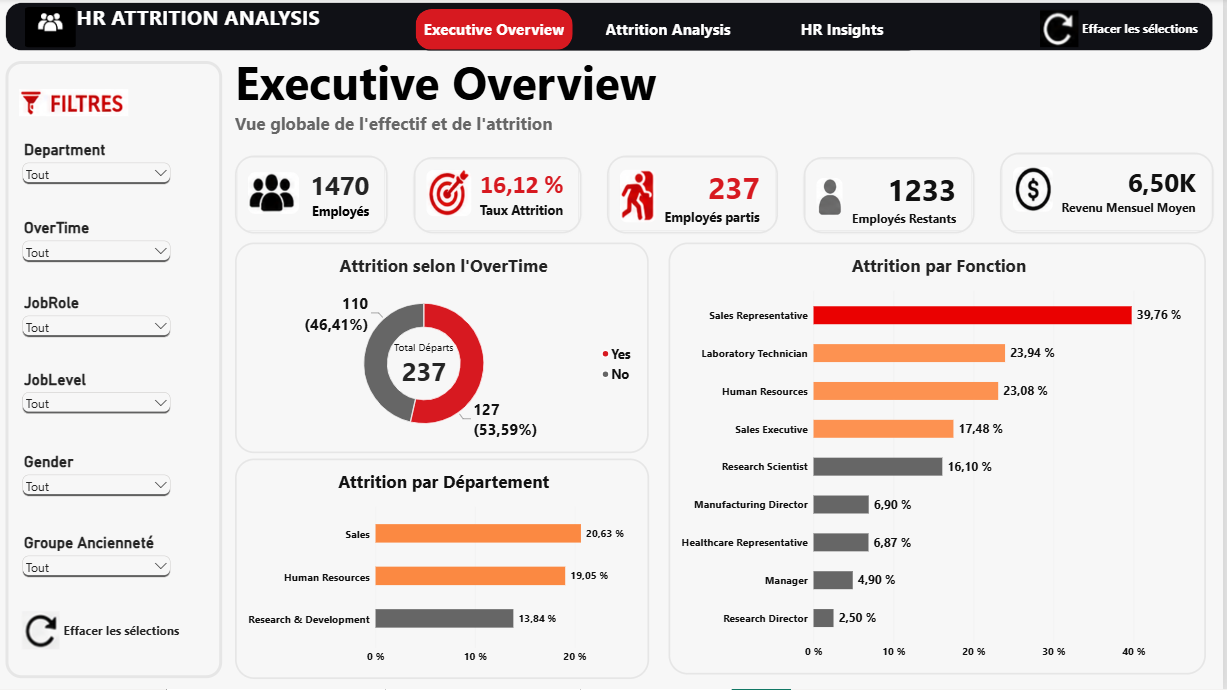

What the dashboard file says about the page in this screenshot:
{"tool":"powerbi","page":{"name":"Executive Overview","canvas":[1920,1080],"ordinal":0},"visuals":[{"type":"cardVisual","fields":{"Data":["_Mesures.Nombre Employés"]},"box":[374.8,245.9,238.7,121.7],"z":0},{"type":"donutChart","title":"Attrition selon l''OverTime","fields":{"Category":["Fact_Employee.OverTime"],"Y":["_Mesures.Employés Ayant Quitté"]},"box":[374.8,381.9,646.9,329.4],"z":1000},{"type":"textbox","box":[42.2,272,407.9,44.5],"z":2000},{"type":"textbox","box":[16.4,7,1887.3,75],"z":3000},{"type":"image","box":[42.2,14.1,89.1,63.3],"z":4000},{"type":"pageNavigator","box":[656.5,16.4,792.4,66],"z":5000},{"type":"actionButton","box":[1629.4,14.1,262.6,68],"z":6000},{"type":"textbox","box":[374.4,82.9,1544.9,139.8],"z":7000},{"type":"textbox","box":[16.6,99.5,338.8,964.4],"z":8000},{"type":"image","box":[37.9,118.5,170.6,87.7],"z":9000},{"type":"slicer","fields":{"Values":["Dim_Department.Department"]},"box":[37.9,222.7,241.7,94.8],"z":10000},{"type":"slicer","fields":{"Values":["Fact_Employee.OverTime"]},"box":[37.9,343.6,241.7,94.8],"z":11000},{"type":"slicer","fields":{"Values":["Dim_JobRole.JobRole"]},"box":[37.9,462,241.7,94.8],"z":12000},{"type":"slicer","fields":{"Values":["Fact_Employee.JobLevel"]},"box":[37.9,580.5,241.7,94.8],"z":13000},{"type":"slicer","fields":{"Values":["Fact_Employee.Gender"]},"box":[37.9,710.8,241.7,94.8],"z":14000},{"type":"slicer","fields":{"Values":["Fact_Employee.Groupe Ancienneté"]},"box":[37.9,836.4,241.7,94.8],"z":15000},{"type":"actionButton","box":[37.9,954.9,262.6,68],"z":16000},{"type":"cardVisual","fields":{"Data":["_Mesures.Taux Attrition"]},"box":[654.1,248.3,262.6,119.4],"z":17000},{"type":"cardVisual","fields":{"Data":["_Mesures.Employés Ayant Quitté"]},"box":[957.2,245.9,267.4,121.7],"z":18000},{"type":"cardVisual","fields":{"Data":["_Mesures.Employés Restants"]},"box":[1262.8,248.3,267.4,119.4],"z":19000},{"type":"cardVisual","fields":{"Data":["_Mesures.Revenu Mensuel Moyen"]},"box":[1570.7,241.1,334.2,126.5],"z":20000},{"type":"clusteredBarChart","title":"Attrition par Fonction","fields":{"Category":["Dim_JobRole.JobRole"],"Y":["_Mesures.Taux Attrition"]},"box":[1052.7,381.9,840.3,675.5],"z":21000},{"type":"clusteredBarChart","title":"Attrition par Département","fields":{"Category":["Dim_Department.Department"],"Y":["_Mesures.Taux Attrition"]},"box":[375.1,719.8,647.1,344.6],"z":22001}]}

Visuals, with their boxes in screenshot pixels (x1, y1, x2, y2), scaled from the page's 1920x1080 canvas onto the 1227x690 screenshot:
cardVisual - _Mesures.Nombre Employés: [240, 157, 392, 235]
"Attrition selon l''OverTime" donutChart: [240, 244, 653, 454]
textbox: [27, 174, 288, 202]
textbox: [10, 4, 1217, 52]
image: [27, 9, 84, 49]
pageNavigator: [420, 10, 926, 53]
actionButton: [1041, 9, 1209, 52]
textbox: [239, 53, 1226, 142]
textbox: [11, 64, 227, 680]
image: [24, 76, 133, 132]
slicer - Dim_Department.Department: [24, 142, 179, 203]
slicer - Fact_Employee.OverTime: [24, 220, 179, 280]
slicer - Dim_JobRole.JobRole: [24, 295, 179, 356]
slicer - Fact_Employee.JobLevel: [24, 371, 179, 431]
slicer - Fact_Employee.Gender: [24, 454, 179, 515]
slicer - Fact_Employee.Groupe Ancienneté: [24, 534, 179, 595]
actionButton: [24, 610, 192, 654]
cardVisual - _Mesures.Taux Attrition: [418, 159, 586, 235]
cardVisual - _Mesures.Employés Ayant Quitté: [612, 157, 783, 235]
cardVisual - _Mesures.Employés Restants: [807, 159, 978, 235]
cardVisual - _Mesures.Revenu Mensuel Moyen: [1004, 154, 1217, 235]
"Attrition par Fonction" clusteredBarChart: [673, 244, 1210, 676]
"Attrition par Département" clusteredBarChart: [240, 460, 653, 680]
